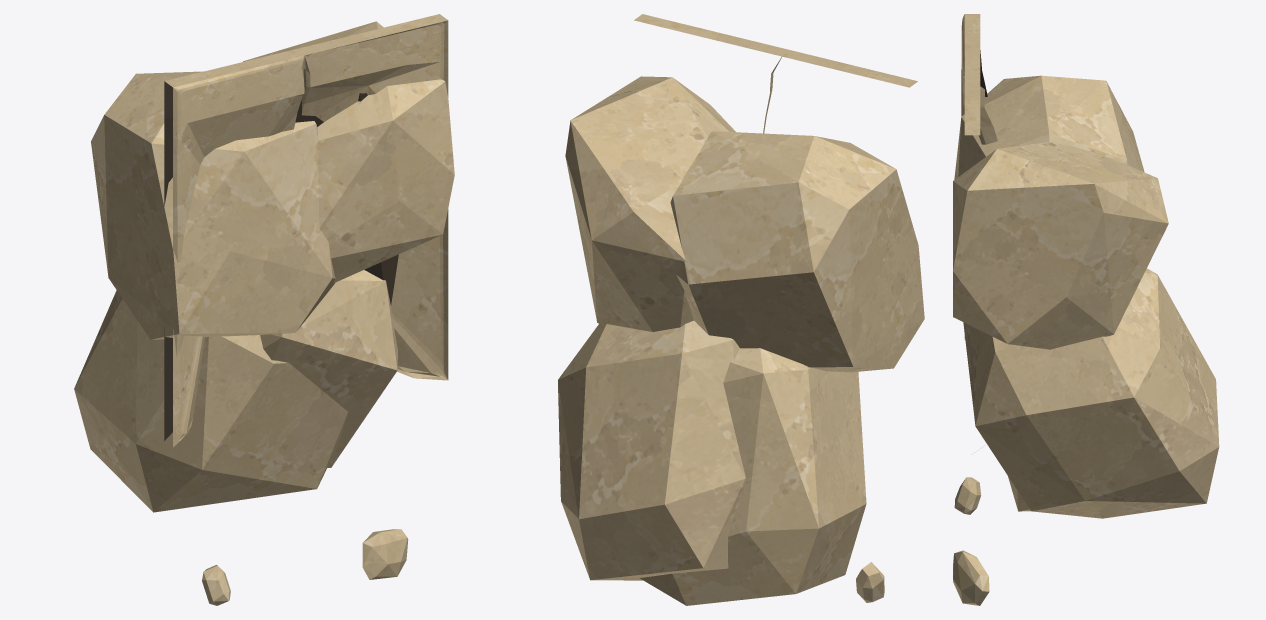
File: ground_bottom_edge_02.glb
3 renders of one model, left to right at view 1: azimuth 30°, elevation 25°; view 2: azimuth 150°, elevation 25°; view 3: azimuth 270°, elevation 25°, orthographic. The views are drawn at different scales.
Visible parts, largest first — view 1: GroundBottomEdge02_Body; view 2: GroundBottomEdge02_Body; view 3: GroundBottomEdge02_Body.
Part boxes in pixels (box(x1,y1,x2,y2)): GroundBottomEdge02_Body: box(74, 14, 454, 605); GroundBottomEdge02_Body: box(558, 14, 924, 605); GroundBottomEdge02_Body: box(953, 14, 1219, 605).
Bounding box in the file's own units: 1 × 1.89 × 1.04.
Materials: 5 (4 with a texture image).
